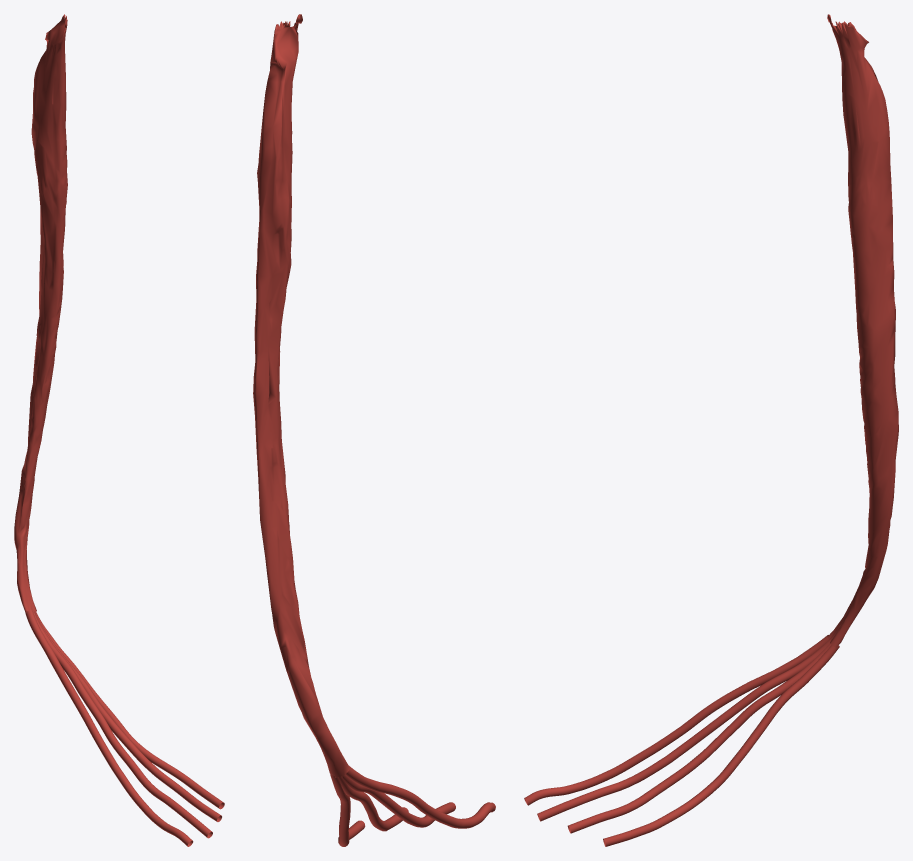
The model's file is musculos-extensor-digitorum-longus-l.glb.
The picture shows the model from 3 angles, left to right: view 1: azimuth 30°, elevation 25°; view 2: azimuth 150°, elevation 25°; view 3: azimuth 270°, elevation 25°; orthographic projection. The views are drawn at different scales.
Parts seen in each view (by area): view 1: Extensor digitorum longus.l, Tendon of extensor digitorum longus.l; view 2: Extensor digitorum longus.l, Tendon of extensor digitorum longus.l; view 3: Extensor digitorum longus.l, Tendon of extensor digitorum longus.l.
Boxes of the visible parts, x1,y1,x2,y2 form: Extensor digitorum longus.l: (14, 14, 67, 613); Tendon of extensor digitorum longus.l: (25, 610, 224, 846); Extensor digitorum longus.l: (253, 14, 350, 777); Tendon of extensor digitorum longus.l: (330, 766, 495, 846); Extensor digitorum longus.l: (827, 14, 898, 647); Tendon of extensor digitorum longus.l: (524, 635, 839, 846).
Bounding box in the file's own units: 0.0571 × 0.4057 × 0.1716.
